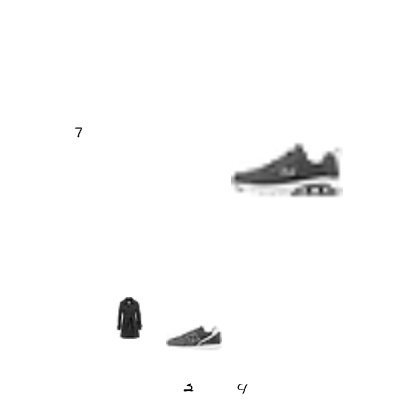2: (182, 381, 196, 395)
4: (235, 381, 249, 395)
7: (72, 124, 86, 138)
Coat: (108, 297, 150, 339)
Sneaker: (231, 112, 343, 224), (166, 310, 222, 366)
